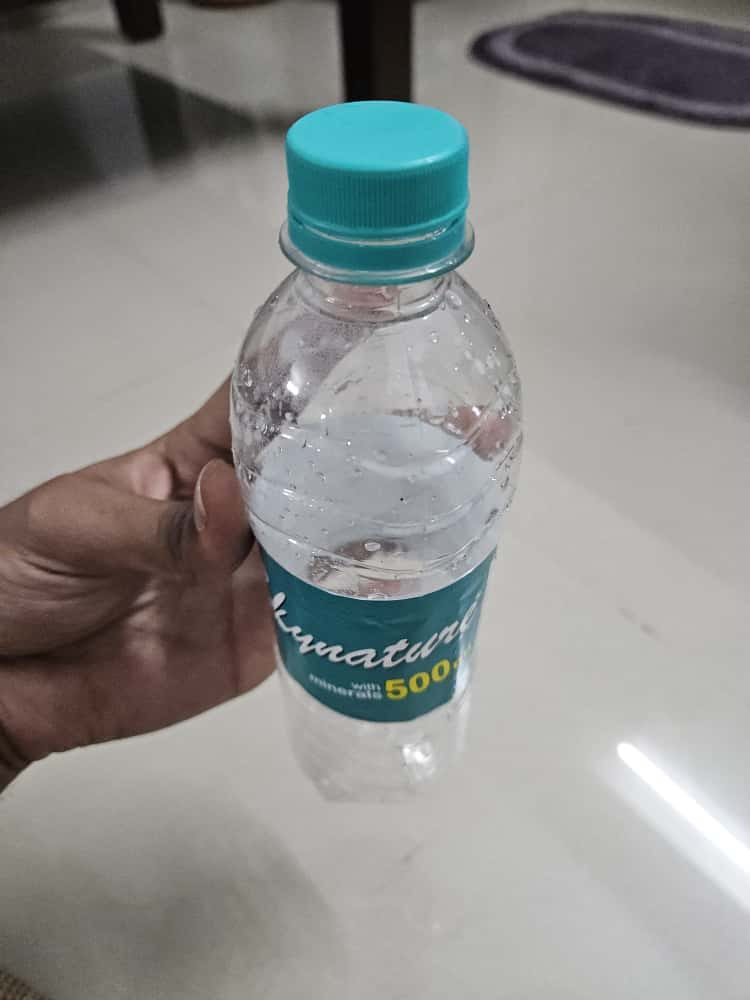dry: (198, 101, 519, 816)
